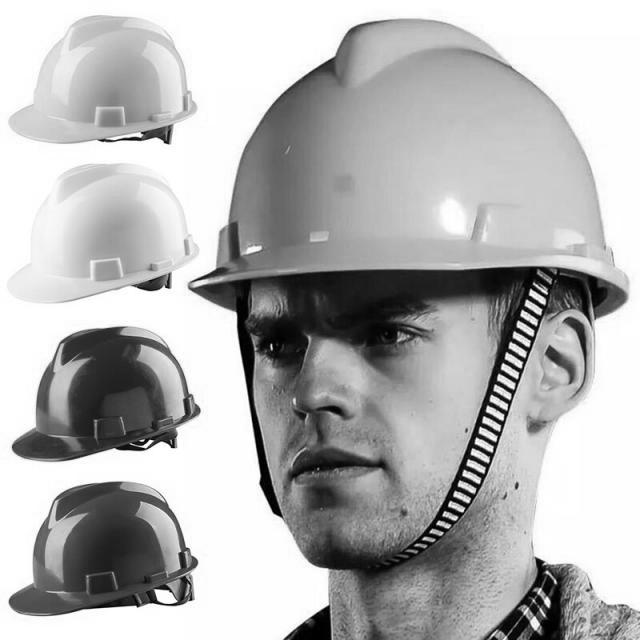construction helmet: (190, 22, 630, 319), (6, 164, 198, 306), (10, 326, 202, 465), (7, 482, 200, 620), (6, 14, 198, 147)
